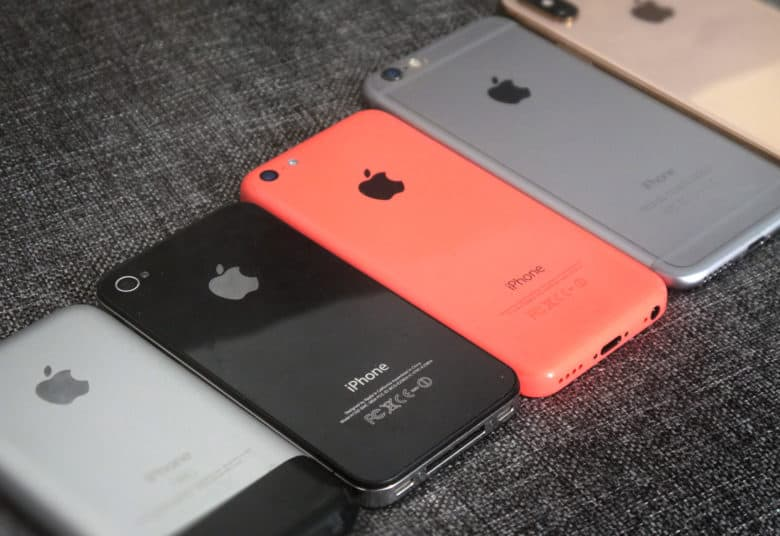apple: (469, 65, 549, 121), (31, 357, 107, 412), (193, 260, 274, 310), (343, 153, 410, 208)
